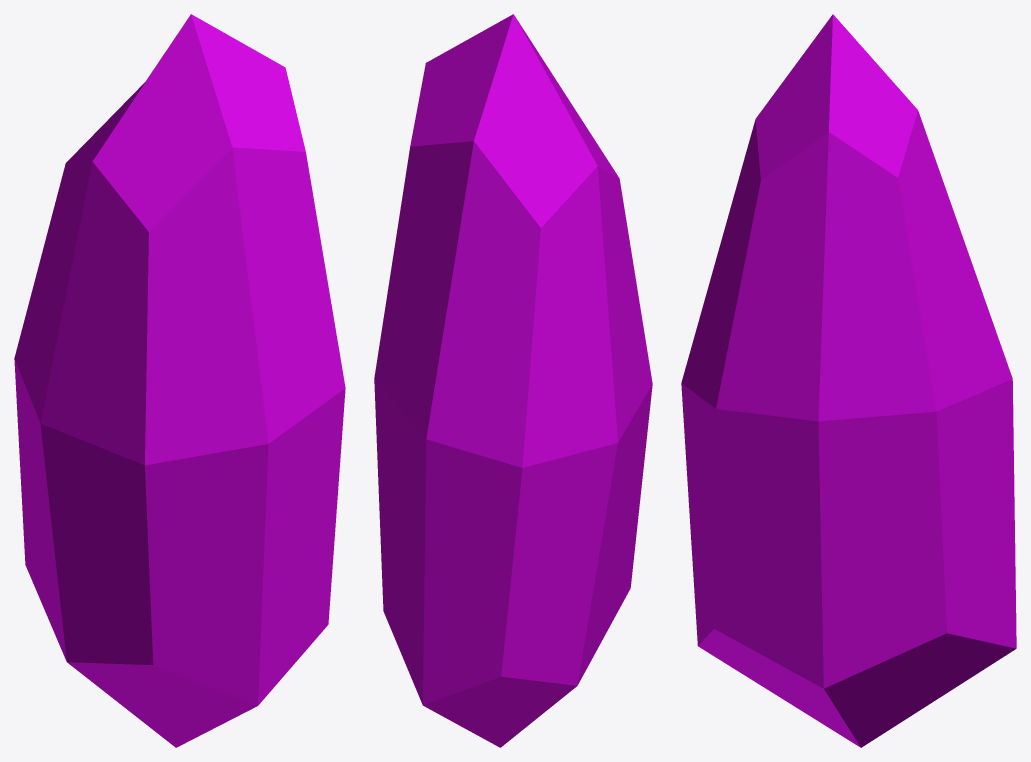
Rendered from Cristal.fbx.
The picture shows the model from 3 angles, left to right: view 1: azimuth 30°, elevation 25°; view 2: azimuth 150°, elevation 25°; view 3: azimuth 270°, elevation 25°; orthographic projection. The views are drawn at different scales.
Parts seen in each view (by area): view 1: Cube; view 2: Cube; view 3: Cube.
Boxes of the visible parts, x1=… form: Cube: x1=14, y1=14, x2=345, y2=747; Cube: x1=374, y1=14, x2=652, y2=747; Cube: x1=681, y1=14, x2=1016, y2=747.
Size of the model in its own units: 33.55 by 92.76 by 38.39.
